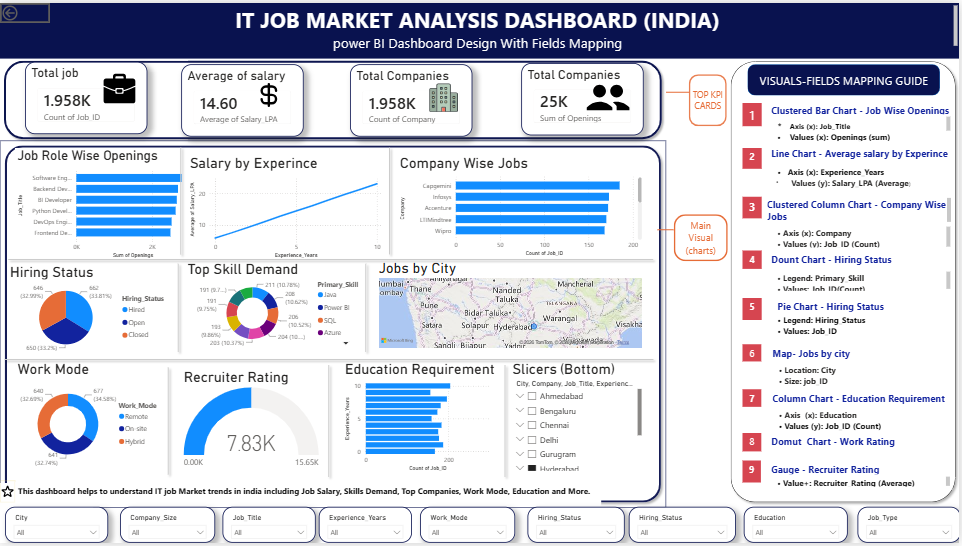

This screenshot's page, from the dashboard's own definition file:
{"tool":"powerbi","page":{"name":"Page 1","canvas":[1920,1080],"ordinal":0},"visuals":[{"type":"textbox","box":[996,19.5,261,150],"z":0},{"type":"textbox","box":[0,0,1920,111.4],"z":1000},{"type":"shape","box":[0,108.6,1331.4,172.9],"z":2000},{"type":"shape","box":[1452.5,107.5,467.5,900],"z":3000},{"type":"shape","box":[0,274,1332,734],"z":4000},{"type":"shape","box":[1495,122.5,385,62.5],"z":5000},{"type":"shape","box":[1378,142,76,104],"z":6000},{"type":"shape","box":[1332,158,46,42],"z":7000},{"type":"shape","box":[1348,422,108,94],"z":8000},{"type":"shape","box":[1316,432,32,42],"z":9000},{"type":"clusteredBarChart","title":"Job Role Wise Openings","fields":{"Category":["IT_Jobs_India.Job_Title"],"Y":["Sum(IT_Jobs_India.Openings)"]},"box":[30,290,370,226],"z":10000},{"type":"lineChart","title":"Salary by Experince","fields":{"Category":["IT_Jobs_India.Experience_Years"],"Y":["Avg(IT_Jobs_India.Salary_LPA)"]},"box":[376,302,394,214],"z":11000},{"type":"clusteredBarChart","title":"Company Wise Jobs","fields":{"Category":["IT_Jobs_India.Company"],"Y":["CountNonNull(IT_Jobs_India.Job_ID)"]},"box":[794,302,494,210],"z":12000},{"type":"donutChart","title":"Top Skill Demand","fields":{"Category":["IT_Jobs_India.Primary_Skill"],"Y":["CountNonNull(IT_Jobs_India.Job_ID)"]},"box":[370,516,382,178],"z":13000},{"type":"pieChart","title":"Hiring Status","fields":{"Y":["CountNonNull(IT_Jobs_India.Job_ID)"],"Category":["IT_Jobs_India.Hiring_Status"]},"box":[16.7,518.3,333.3,186.7],"z":14000},{"type":"map","title":"Hiring Status","fields":{"Category":["IT_Jobs_India.City"],"Size":["CountNonNull(IT_Jobs_India.Job_ID)"]},"box":[752,516,536,186],"z":15000},{"type":"clusteredBarChart","title":"Education Requirement","fields":{"Category":["IT_Jobs_India.Experience_Years"],"Y":["CountNonNull(IT_Jobs_India.Job_ID)"]},"box":[686,716,310,226],"z":16000},{"type":"donutChart","title":"Work Mode","fields":{"Y":["CountNonNull(IT_Jobs_India.Job_ID)"],"Category":["IT_Jobs_India.Work_Mode"]},"box":[30,716,306,222],"z":17000},{"type":"gauge","title":"Recruiter Rating","fields":{"Y":["Sum(IT_Jobs_India.Recruiter_Rating)"]},"box":[362,730,280,212],"z":18000},{"type":"slicer","title":"Slicers (Bottom)","fields":{"Values":["IT_Jobs_India.City","IT_Jobs_India.Company","IT_Jobs_India.Job_Title","IT_Jobs_India.Experience_Years","IT_Jobs_India.Work_Mode","IT_Jobs_India.Hiring_Status"]},"box":[1020,716,268,226],"z":19000},{"type":"actionButton","box":[0,0,100,40],"z":20000},{"type":"actionButton","box":[0,0,100,40],"z":21000},{"type":"actionButton","box":[0,0,100,40],"z":22000},{"type":"textbox","box":[1486,200,38,46],"z":23000},{"type":"textbox","box":[1550,590,357.1,58.6],"z":24000},{"type":"textbox","box":[1538,198,368,48],"z":25000},{"type":"textbox","box":[1538.6,222.9,368.6,58.6],"z":26000},{"type":"textbox","box":[1485.7,290,38.6,41.4],"z":27000},{"type":"textbox","box":[1538,282,368,40],"z":28000},{"type":"textbox","box":[1538.6,321.4,351.4,62.9],"z":29000},{"type":"textbox","box":[1485.7,388.6,38.6,42.9],"z":30000},{"type":"textbox","box":[1530,384.3,377.1,58.6],"z":31000},{"type":"textbox","box":[1538.6,442.9,368.6,51.4],"z":32000},{"type":"textbox","box":[1485.7,494.3,38.6,37.1],"z":33000},{"type":"textbox","box":[1538.6,494.3,351.4,37.1],"z":34000},{"type":"textbox","box":[1538.6,531.4,368.6,48.6],"z":35000},{"type":"textbox","box":[1485.7,590,38.6,44.3],"z":36000},{"type":"textbox","box":[1538.6,618.6,368.6,64.3],"z":37000},{"type":"textbox","box":[1485.6,683.3,37.8,34.4],"z":38000},{"type":"textbox","box":[1538.9,683.3,368.9,34.4],"z":39000},{"type":"textbox","box":[1538.9,717.8,368.9,54.4],"z":40000},{"type":"textbox","box":[1485.6,772.2,37.8,35.6],"z":41000},{"type":"textbox","box":[1538.9,772.2,366.7,35.6],"z":42000},{"type":"textbox","box":[1538.9,807.8,368.9,53.3],"z":43000},{"type":"textbox","box":[1485.6,861.1,37.8,36.7],"z":44000},{"type":"textbox","box":[1538.6,860,368.6,38.6],"z":45000},{"type":"textbox","box":[1485.7,915.7,37.1,44.3],"z":46000},{"type":"textbox","box":[1538.6,915.7,368.6,44.3],"z":47000},{"type":"textbox","box":[1538.6,941.4,367.1,30],"z":48000},{"type":"textbox","box":[0,960,1202,48],"z":49000},{"type":"image","box":[0,956,30,44],"z":50000},{"type":"slicer","fields":{"Values":["IT_Jobs_India.City"]},"box":[0,1008,186,72],"z":51000},{"type":"slicer","fields":{"Values":["IT_Jobs_India.Company_Size"]},"box":[240,1008,190,72],"z":52000},{"type":"slicer","fields":{"Values":["IT_Jobs_India.Job_Title"]},"box":[444,1008,186,72],"z":53000},{"type":"slicer","fields":{"Values":["IT_Jobs_India.Experience_Years"]},"box":[638,1008,186,72],"z":54000},{"type":"slicer","fields":{"Values":["IT_Jobs_India.City"]},"box":[10,1008,206,72],"z":55000},{"type":"slicer","fields":{"Values":["IT_Jobs_India.Work_Mode"]},"box":[840,1008,190,72],"z":56000},{"type":"slicer","fields":{"Values":["IT_Jobs_India.Hiring_Status"]},"box":[1054,1008,194,72],"z":57000},{"type":"slicer","fields":{"Values":["IT_Jobs_India.Hiring_Status"]},"box":[1258,1008,214,72],"z":58000},{"type":"slicer","fields":{"Values":["IT_Jobs_India.Education"]},"box":[1488,1008,208,72],"z":59000},{"type":"slicer","fields":{"Values":["IT_Jobs_India.Job_Type"]},"box":[1714,1008,206,72],"z":60000},{"type":"map","title":"Jobs by City","fields":{"Size":["CountNonNull(IT_Jobs_India.Job_ID)"],"Category":["IT_Jobs_India.City"]},"box":[752,512,536,182],"z":61000},{"type":"shape","box":[766,280,28,232],"z":62000},{"type":"shape","box":[348,280,28,232],"z":63000},{"type":"shape","box":[322,720,28,232],"z":64000},{"type":"shape","box":[996,714,30,242],"z":65000},{"type":"shape","box":[642,716,30,242],"z":66000},{"type":"shape","box":[0,694,1316,36],"z":67000},{"type":"shape","box":[8,494,1308,36],"z":68000},{"type":"shape","box":[342,512,28,194],"z":69000},{"type":"shape","box":[718,512,28,194],"z":70000},{"type":"cardVisual","title":"Total job","fields":{"Data":["CountNonNull(IT_Jobs_India.Job_ID)"]},"box":[50,118.3,245,145],"z":71000},{"type":"cardVisual","title":"Average of salary","fields":{"Data":["Avg(IT_Jobs_India.Salary_LPA)"]},"box":[362.5,122.5,245,145],"z":72000},{"type":"cardVisual","title":"Total Companies","fields":{"Data":["CountNonNull(IT_Jobs_India.Company)"]},"box":[700,122.5,245,145],"z":73000},{"type":"cardVisual","title":"Total Companies","fields":{"Data":["Sum(IT_Jobs_India.Openings)"]},"box":[1042.5,120,245,145],"z":74000},{"type":"image","box":[202.5,127.5,75,85],"z":75000},{"type":"image","box":[502.5,155,70,57.5],"z":76000},{"type":"image","box":[840,160,95,57.5],"z":77000},{"type":"image","box":[1165,117.5,102.5,135],"z":78000}]}

Visuals, with their boxes in screenshot pixels (x1, y1, x2, y2), scaled from the page's 1920x1080 canvas onto the 962x546 screenshot:
textbox: 499:10:630:86
textbox: 0:0:961:56
shape: 0:55:667:142
shape: 728:54:961:509
shape: 0:139:667:510
shape: 749:62:942:94
shape: 690:72:729:124
shape: 667:80:690:101
shape: 675:213:730:261
shape: 659:218:675:240
"Job Role Wise Openings" clusteredBarChart: 15:147:200:261
"Salary by Experince" lineChart: 188:153:386:261
"Company Wise Jobs" clusteredBarChart: 398:153:645:259
"Top Skill Demand" donutChart: 185:261:377:351
"Hiring Status" pieChart: 8:262:175:356
"Hiring Status" map: 377:261:645:355
"Education Requirement" clusteredBarChart: 344:362:499:476
"Work Mode" donutChart: 15:362:168:474
"Recruiter Rating" gauge: 181:369:322:476
"Slicers (Bottom)" slicer: 511:362:645:476
actionButton: 0:0:50:20
actionButton: 0:0:50:20
actionButton: 0:0:50:20
textbox: 745:101:764:124
textbox: 777:298:956:328
textbox: 771:100:955:124
textbox: 771:113:956:142
textbox: 744:147:764:168
textbox: 771:143:955:163
textbox: 771:162:947:194
textbox: 744:196:764:218
textbox: 767:194:956:224
textbox: 771:224:956:250
textbox: 744:250:764:269
textbox: 771:250:947:269
textbox: 771:269:956:293
textbox: 744:298:764:321
textbox: 771:313:956:345
textbox: 744:345:763:363
textbox: 771:345:956:363
textbox: 771:363:956:390
textbox: 744:390:763:408
textbox: 771:390:955:408
textbox: 771:408:956:435
textbox: 744:435:763:454
textbox: 771:435:956:454
textbox: 744:463:763:485
textbox: 771:463:956:485
textbox: 771:476:955:491
textbox: 0:485:602:510
image: 0:483:15:506
slicer - IT_Jobs_India.City: 0:510:93:545
slicer - IT_Jobs_India.Company_Size: 120:510:215:545
slicer - IT_Jobs_India.Job_Title: 222:510:316:545
slicer - IT_Jobs_India.Experience_Years: 320:510:413:545
slicer - IT_Jobs_India.City: 5:510:108:545
slicer - IT_Jobs_India.Work_Mode: 421:510:516:545
slicer - IT_Jobs_India.Hiring_Status: 528:510:625:545
slicer - IT_Jobs_India.Hiring_Status: 630:510:738:545
slicer - IT_Jobs_India.Education: 746:510:850:545
slicer - IT_Jobs_India.Job_Type: 859:510:961:545
"Jobs by City" map: 377:259:645:351
shape: 384:142:398:259
shape: 174:142:188:259
shape: 161:364:175:481
shape: 499:361:514:483
shape: 322:362:337:484
shape: 0:351:659:369
shape: 4:250:659:268
shape: 171:259:185:357
shape: 360:259:374:357
"Total job" cardVisual: 25:60:148:133
"Average of salary" cardVisual: 182:62:304:135
"Total Companies" cardVisual: 351:62:473:135
"Total Companies" cardVisual: 522:61:645:134
image: 101:64:139:107
image: 252:78:287:107
image: 421:81:468:110
image: 584:59:635:128
